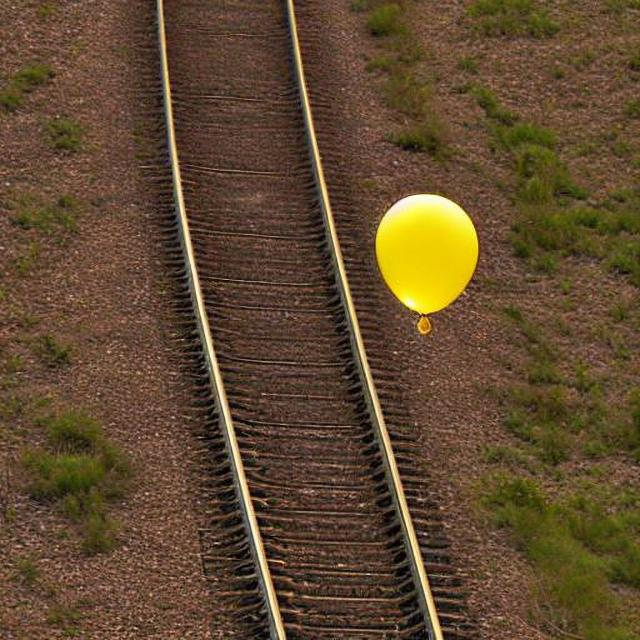balloon: (369, 192, 477, 326)
